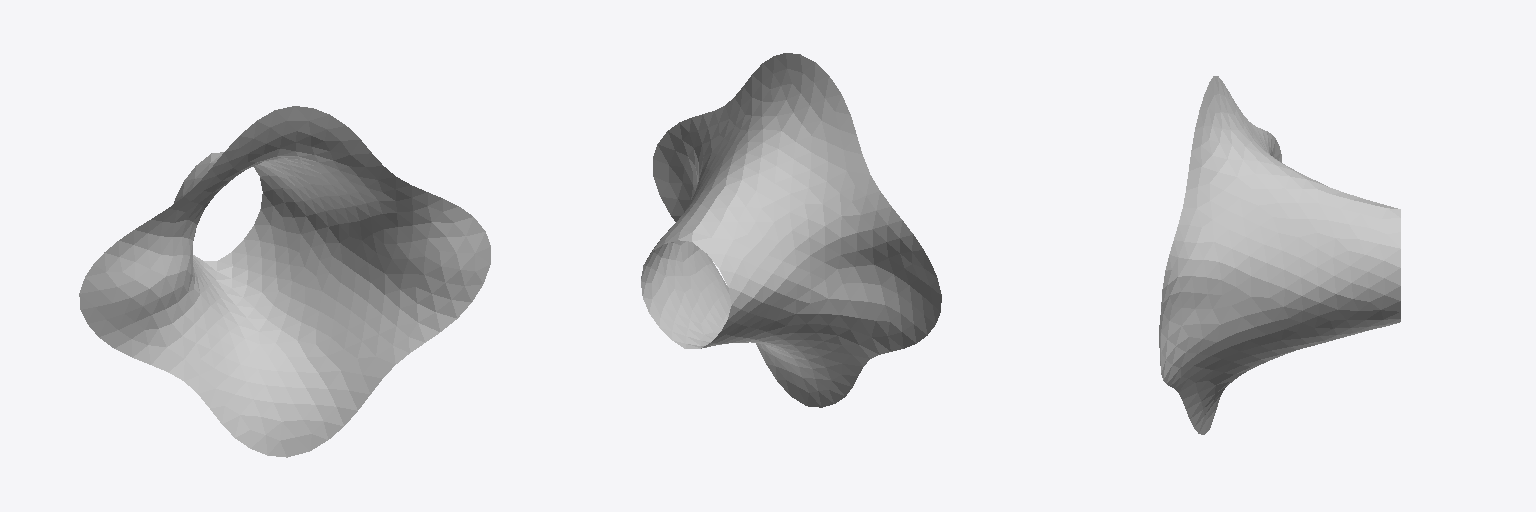
File: flower3.obj
3 views of the same model, side by side, from view 1: azimuth 30°, elevation 25°; view 2: azimuth 150°, elevation 25°; view 3: azimuth 270°, elevation 25° (orthographic).
Size of the model in its own units: 23.08 by 22.03 by 13.77.